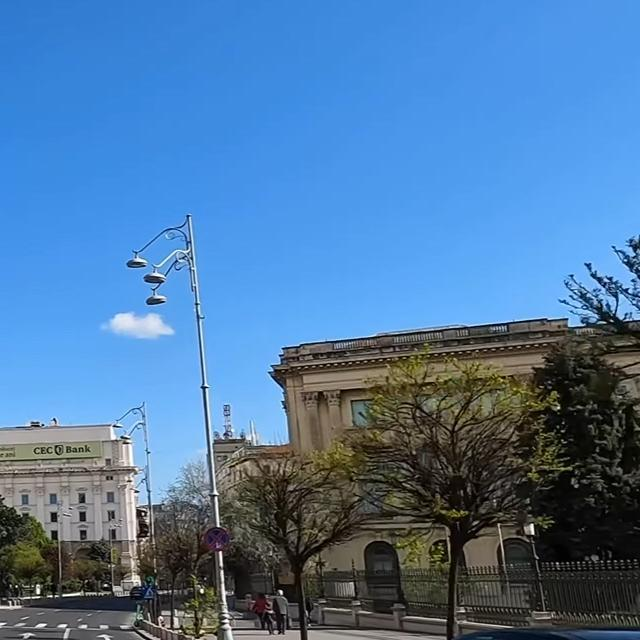forb_waiting: (203, 526, 228, 551)
